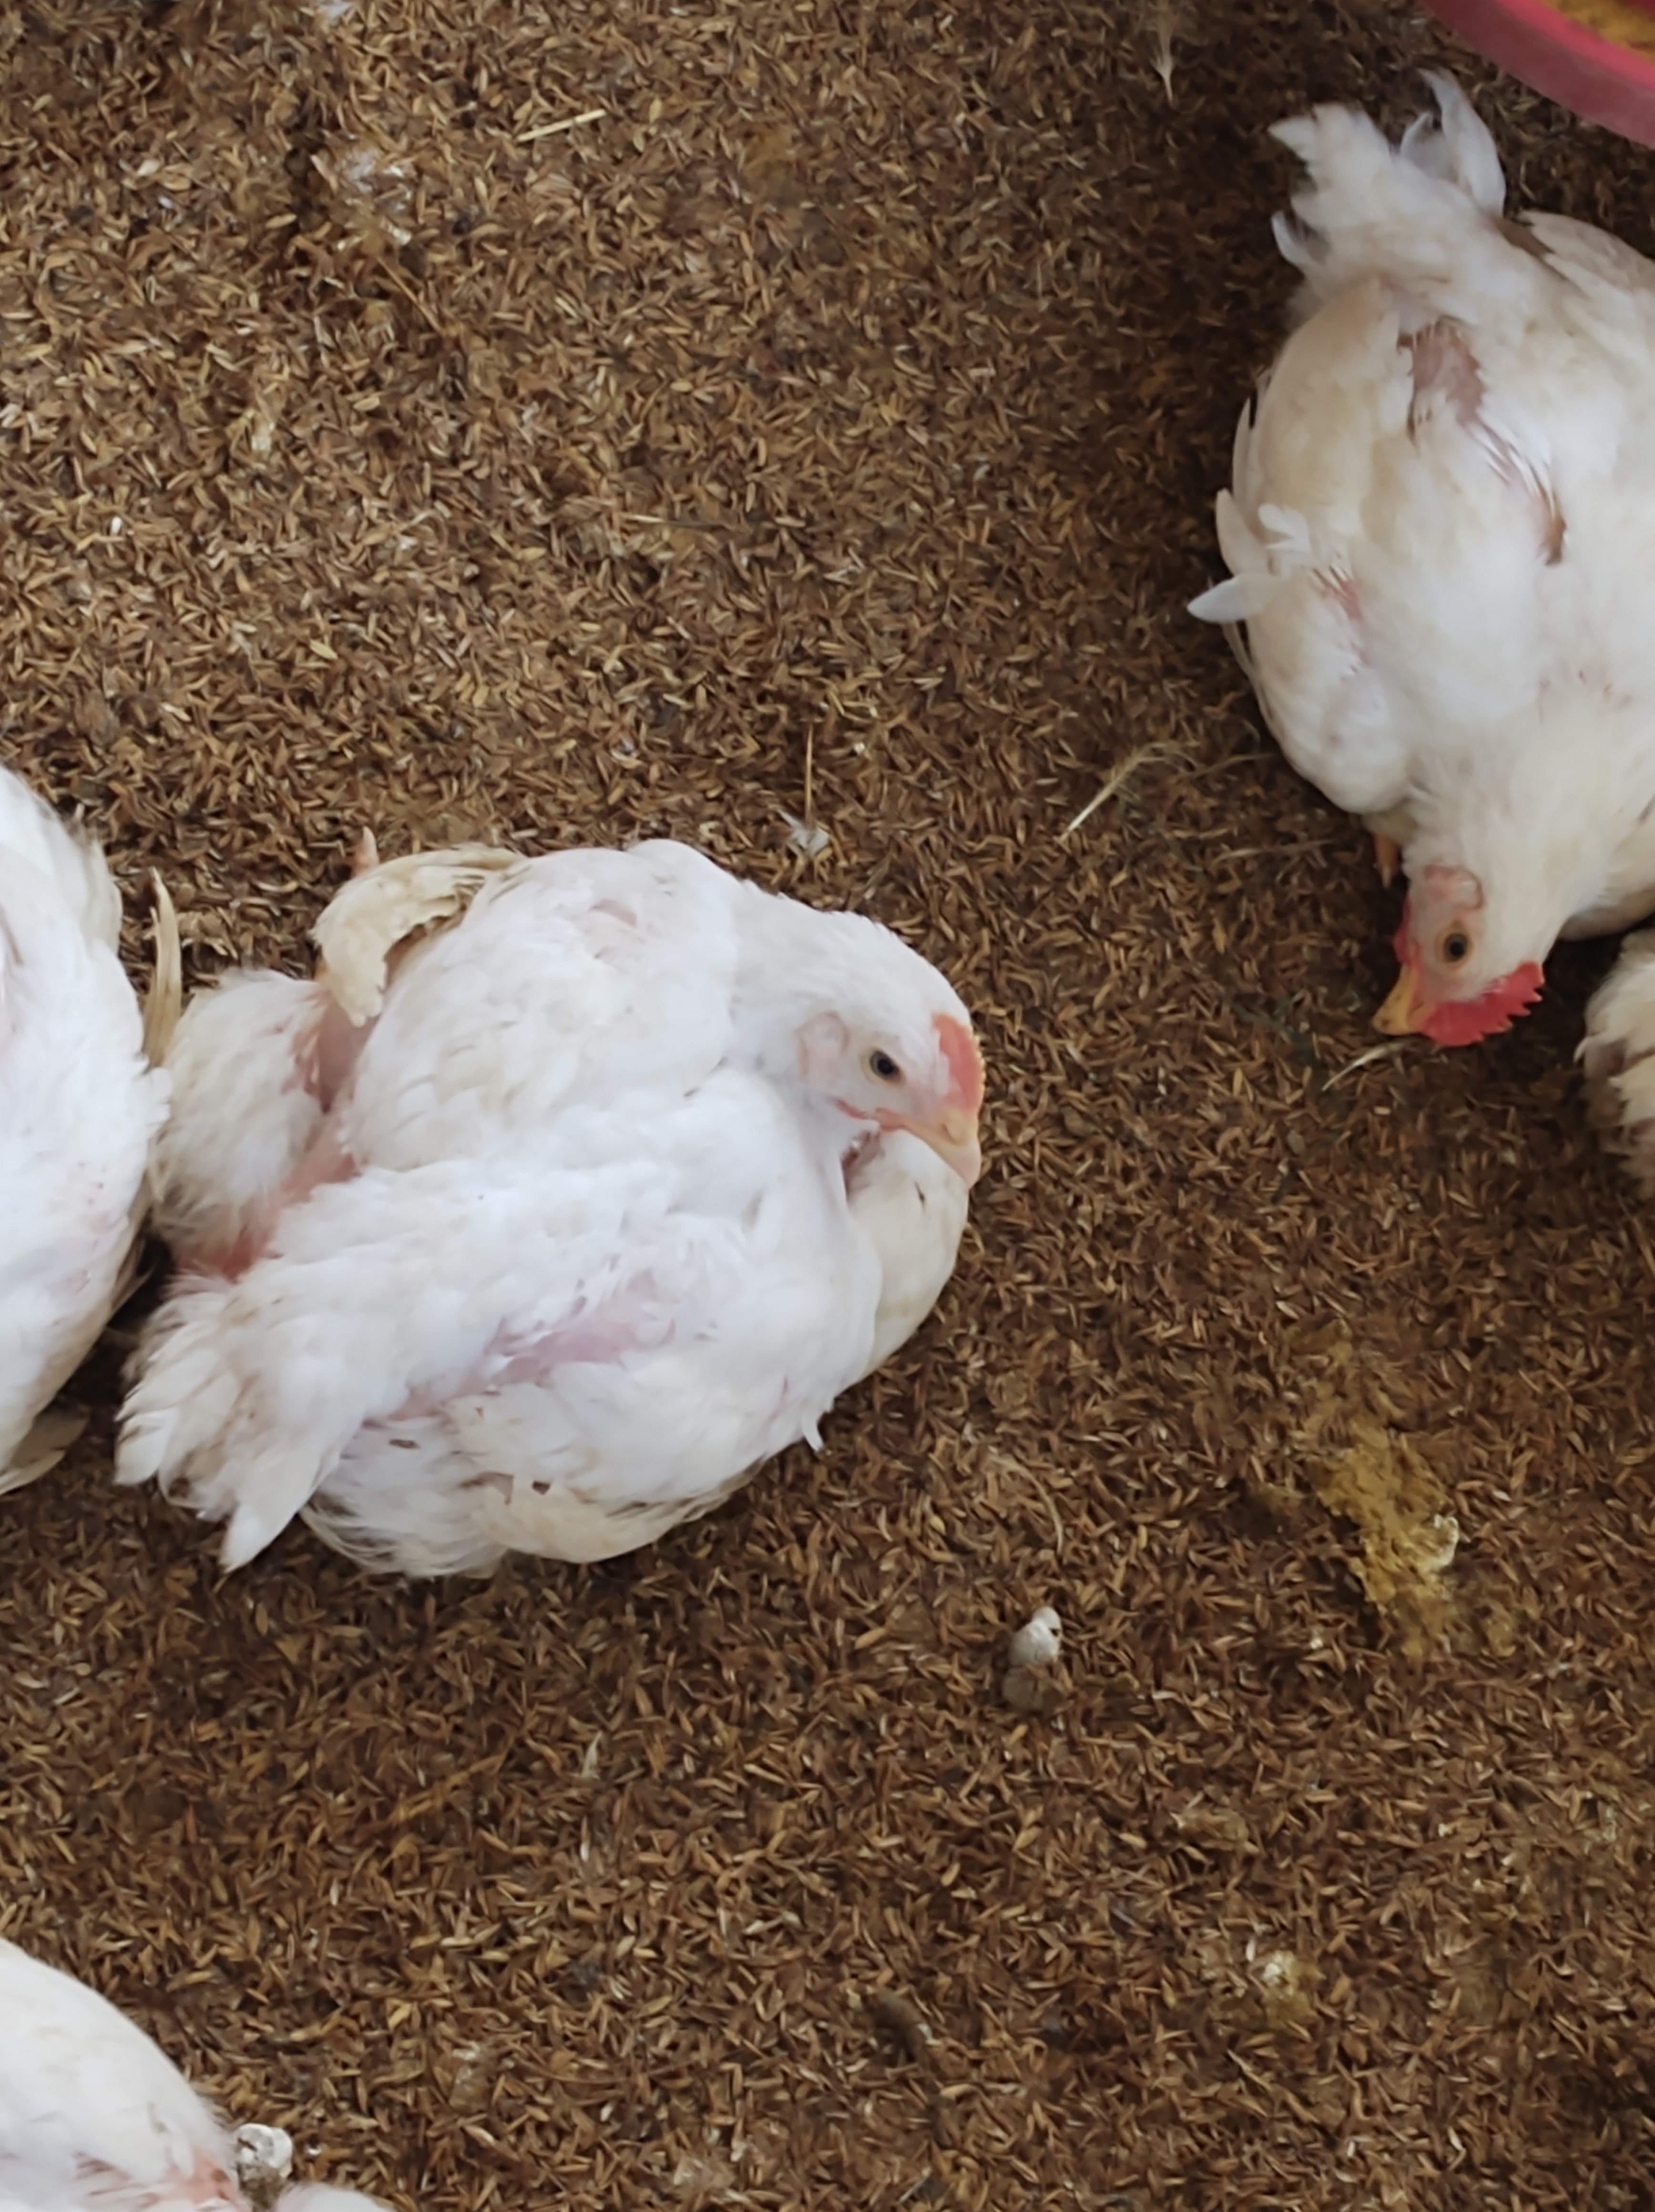Pollos: (163, 786, 998, 1629), (1240, 54, 1655, 1043)
